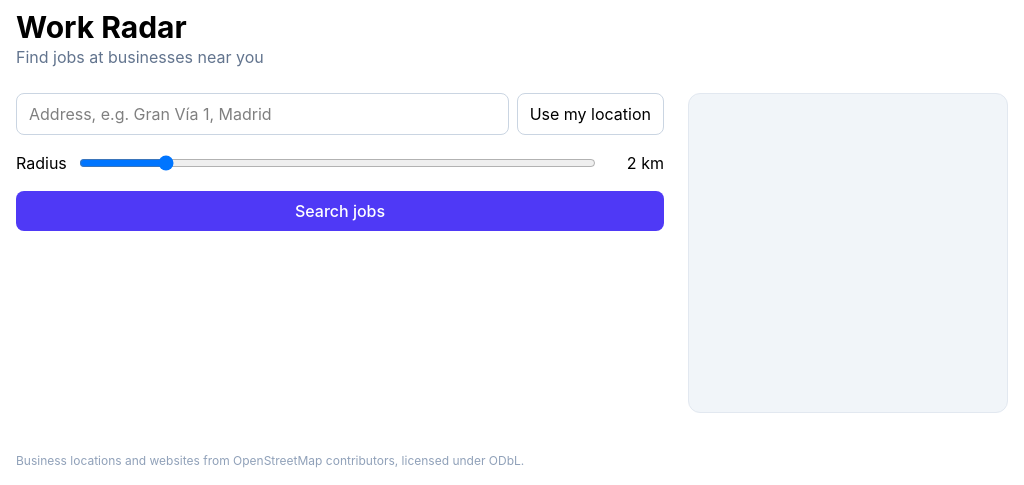
Test case: suggests addresses and shows the area on the map before searching
In the dropdown with placeholder "Address, e.g. Gran Vía 1, Madrid": {"x": 262, "y": 114} [16,93,509,135], type "Écublens"
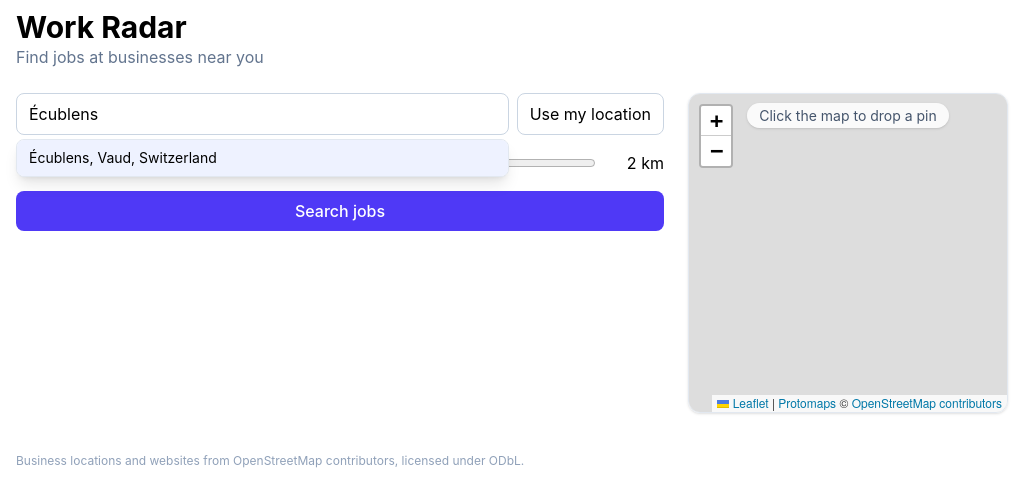
Press the mouse on the button "Écublens, Vaud, Switzerland": {"x": 123, "y": 158} [17,140,508,176]
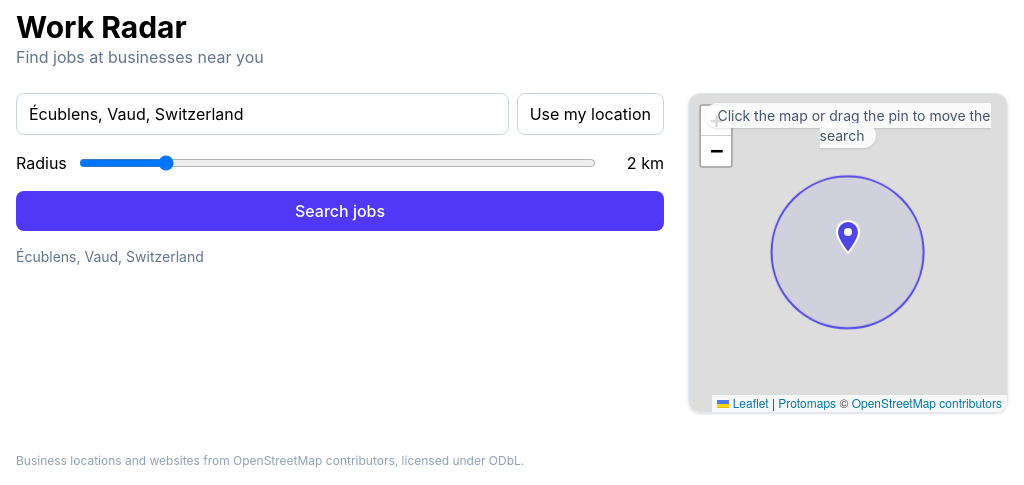
Now the icon with class "leaflet-marker-icon" is shown, box [835,220,861,254]
